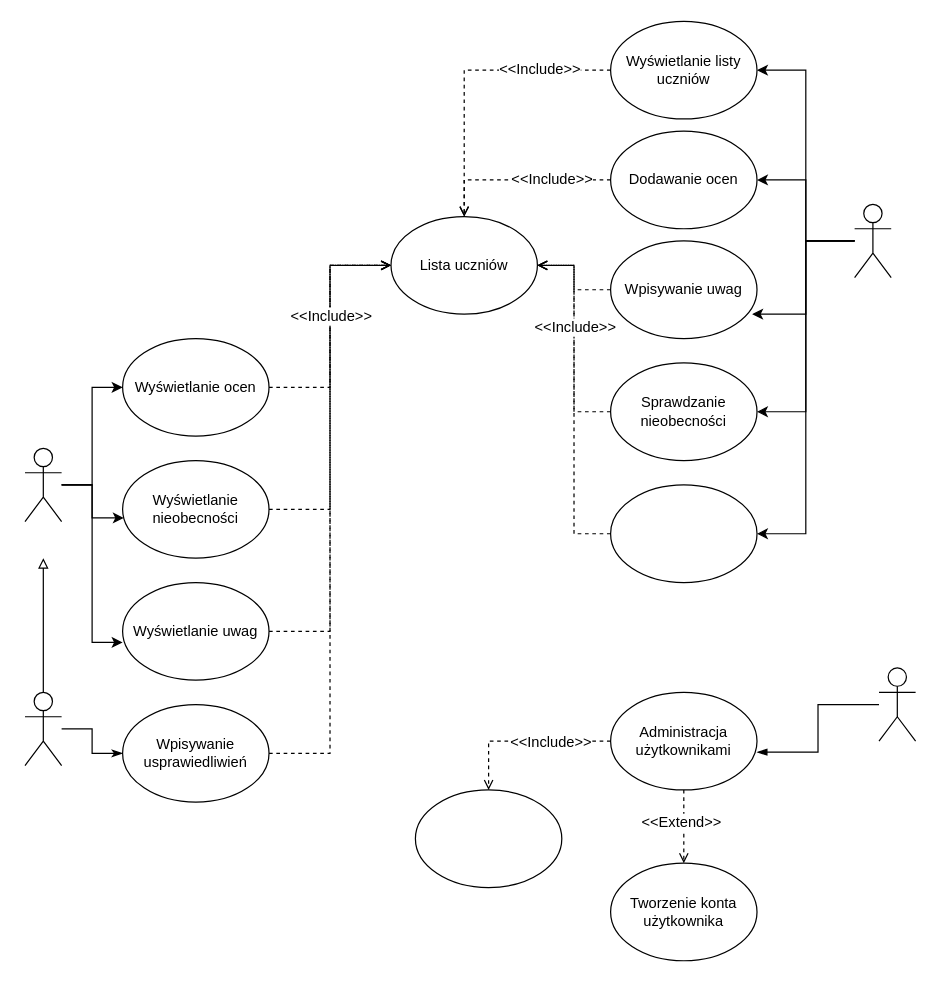
This 946x982 diagram has some shape labels left out. Each missing label, with the box of its shape:
Akceptacja usprawiedliwień: (609, 484, 757, 583)
Dyrektor: (878, 667, 916, 741)
Lista użytkowników: (414, 789, 562, 888)
Nauczyciel: (853, 203, 891, 278)
Rodzic: (24, 691, 62, 766)
Uczeń: (24, 447, 62, 522)
